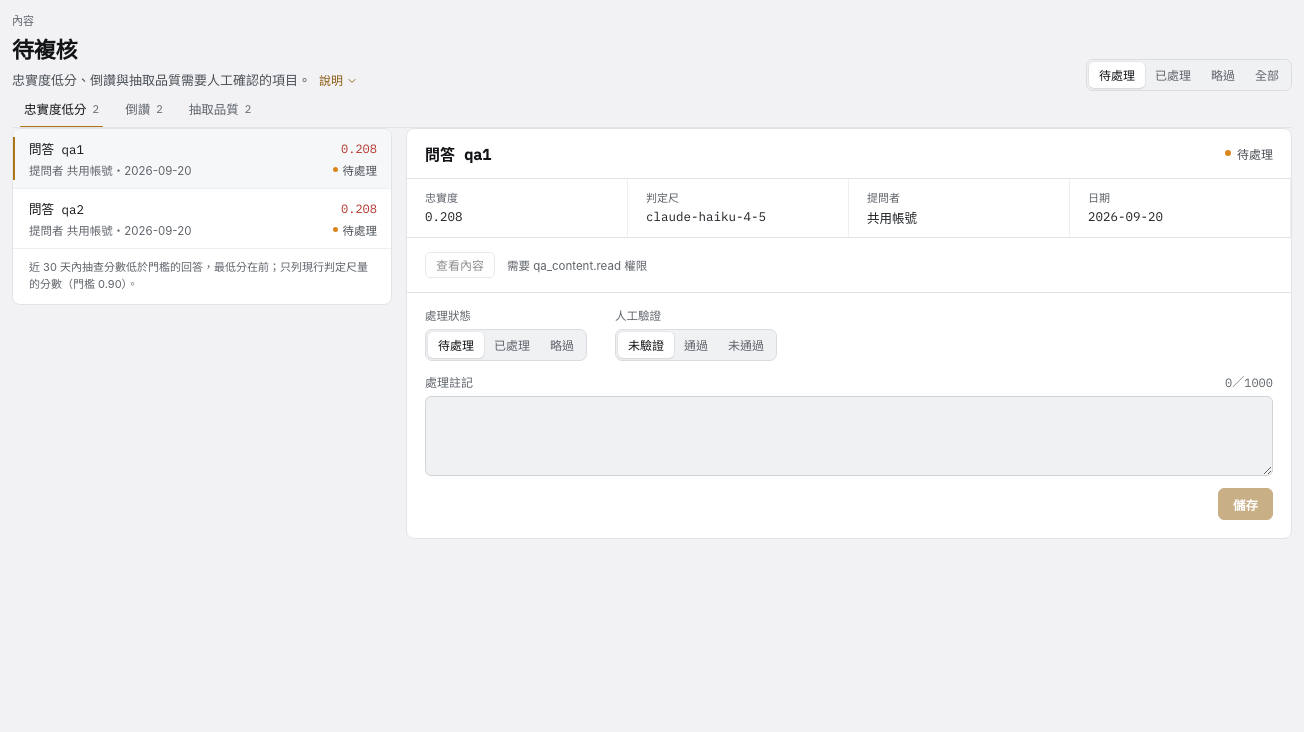
it: 忠實度低分的詳情列出該筆的判定尺（舊後端沒有這欄時不印）
The width and height of the screenshot is (1304, 732).
Click the text "問答 qa2".
click(56, 209)  # box [29,201,84,217]
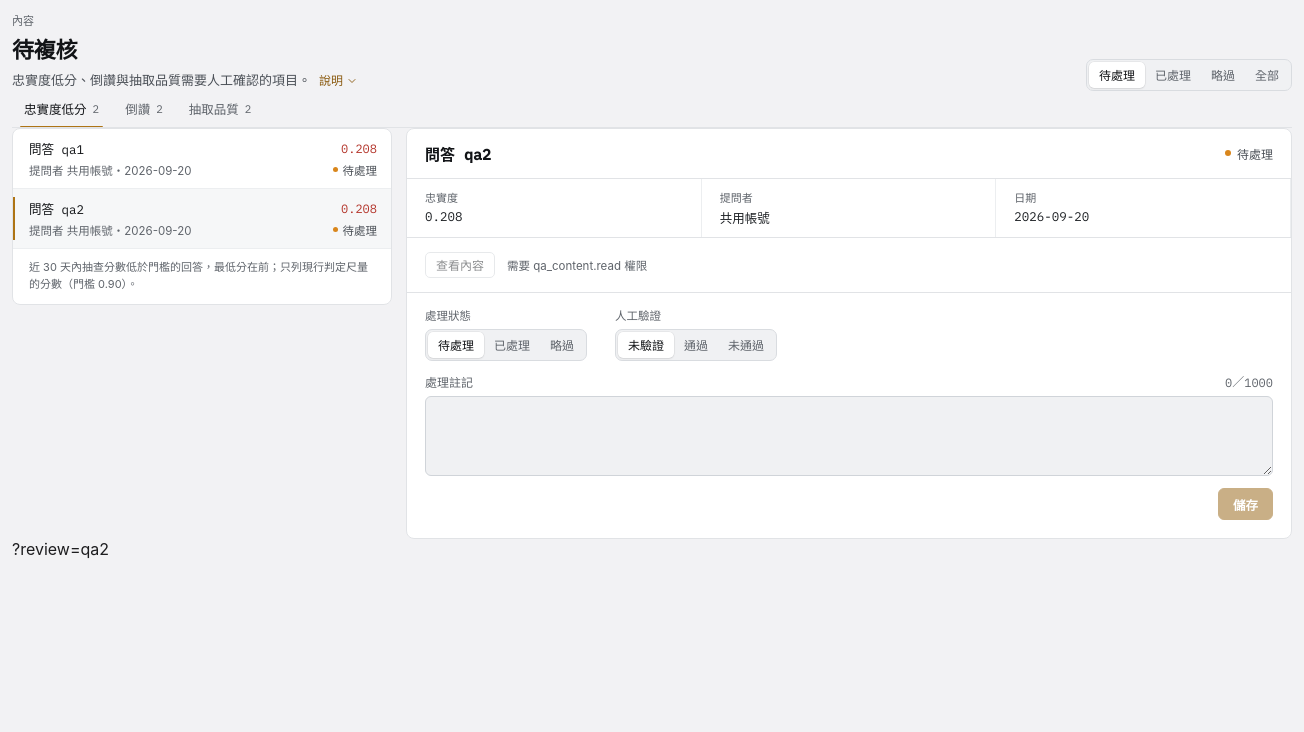
Expected: the heading "問答 qa2" is shown, [425,145,491,164]
